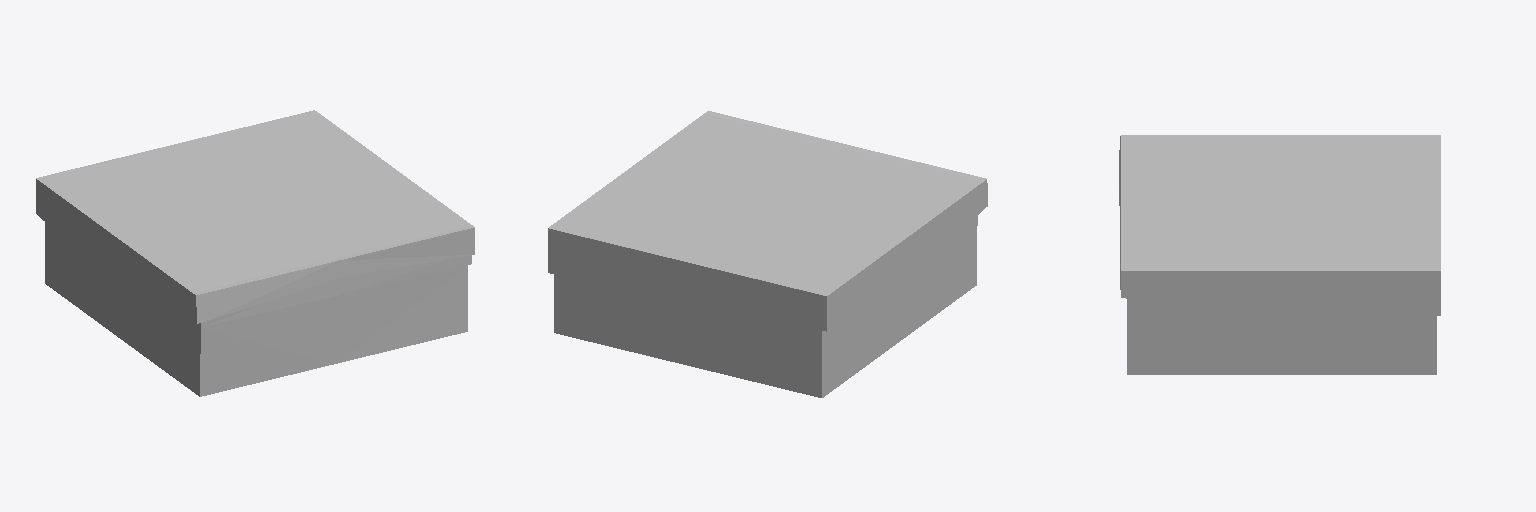
File: Grass_Base_Corner.obj
3 views of the same model, side by side, from view 1: azimuth 30°, elevation 25°; view 2: azimuth 150°, elevation 25°; view 3: azimuth 270°, elevation 25° (orthographic).
Visible parts, largest first — view 1: Grass_Base.002_Cube.004; view 2: Grass_Base.002_Cube.004; view 3: Grass_Base.002_Cube.004.
Boxes of the visible parts, x1,y1,x2,y2 form: Grass_Base.002_Cube.004: [36, 110, 474, 396]; Grass_Base.002_Cube.004: [548, 111, 987, 397]; Grass_Base.002_Cube.004: [1119, 135, 1440, 374].
Size of the model in its own units: 5.98 by 2.17 by 5.99.